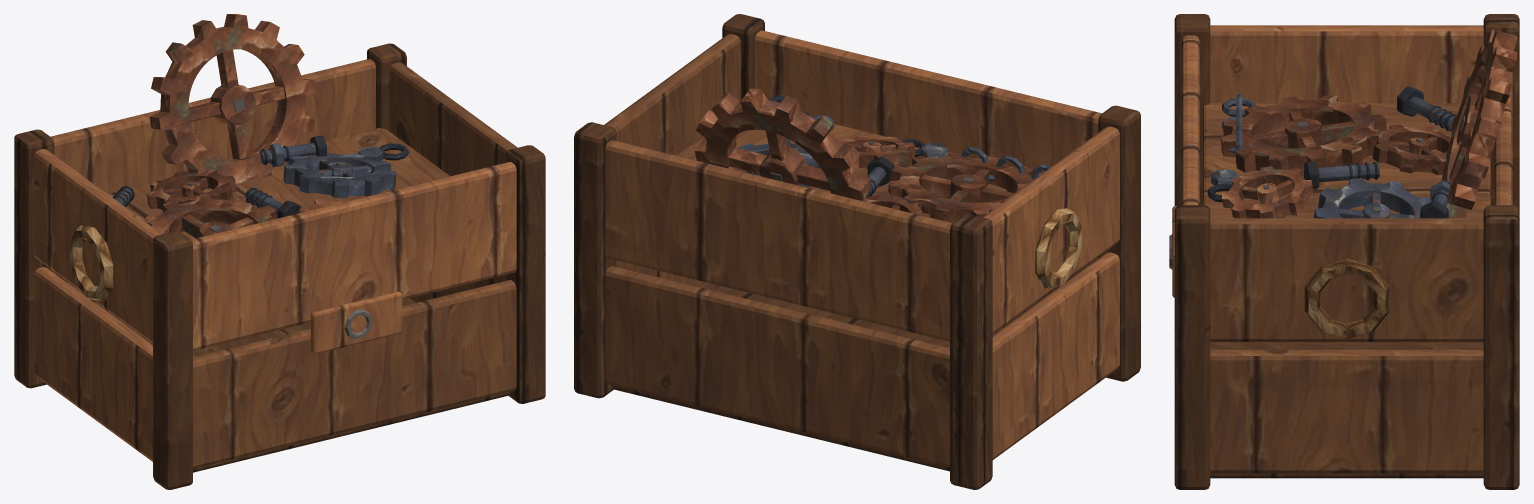
File: parts_bin.glb
The picture shows the model from 3 angles, left to right: view 1: azimuth 30°, elevation 25°; view 2: azimuth 150°, elevation 25°; view 3: azimuth 270°, elevation 25°; orthographic projection. The views are drawn at different scales.
Parts seen in each view (by area): view 1: model; view 2: model; view 3: model.
Part boxes in pixels (box(x1,y1,x2,y2)): model: box(14, 14, 545, 489); model: box(574, 14, 1140, 489); model: box(1169, 14, 1519, 489).
Bounding box in the file's own units: 0.6908 × 0.5454 × 0.4873.
Materials: 12 (10 with a texture image).
